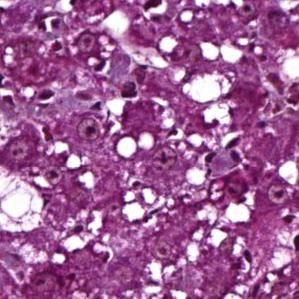ballooning: (0, 164, 47, 234)
